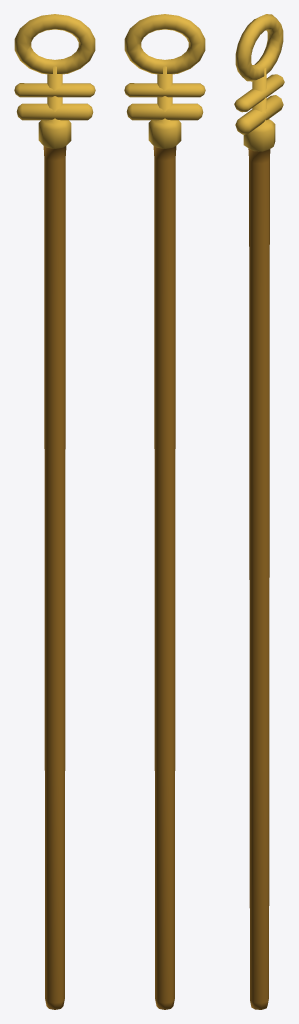
Rendered from mm6_cle_staff.glb.
The picture shows the model from 3 angles, left to right: view 1: azimuth 30°, elevation 25°; view 2: azimuth 210°, elevation 25°; view 3: azimuth 270°, elevation 25°; orthographic projection.
Visible parts, largest first — view 1: Staff; view 2: Staff; view 3: Staff.
Boxes of the visible parts, x1=… form: Staff: x1=14, y1=14, x2=95, y2=1009; Staff: x1=124, y1=14, x2=205, y2=1009; Staff: x1=234, y1=14, x2=284, y2=1009.
Bounding box in the file's own units: 0.1071 × 1.6 × 0.0745.
1 material, 1 textured.
